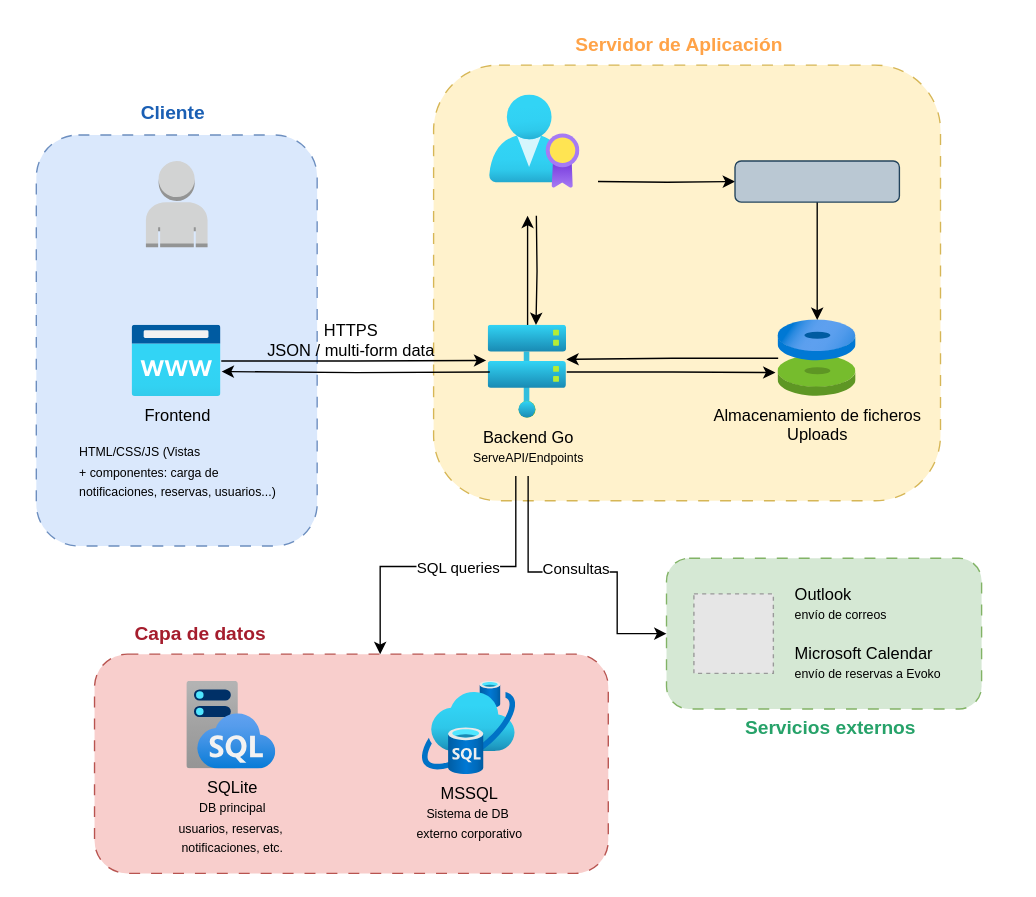
The diagram is 1036 pixels wide and 897 high, and some of its shapes have lost their labels. Grey dashed boxes stand in for pictures. The centre of each missing label's shape, as x and y in pixels:
"Auth + rol del usuario" belongs at (534,141).
"Subida/descarga controlada" belongs at (816,181).
"Usuario" belongs at (176,203).
